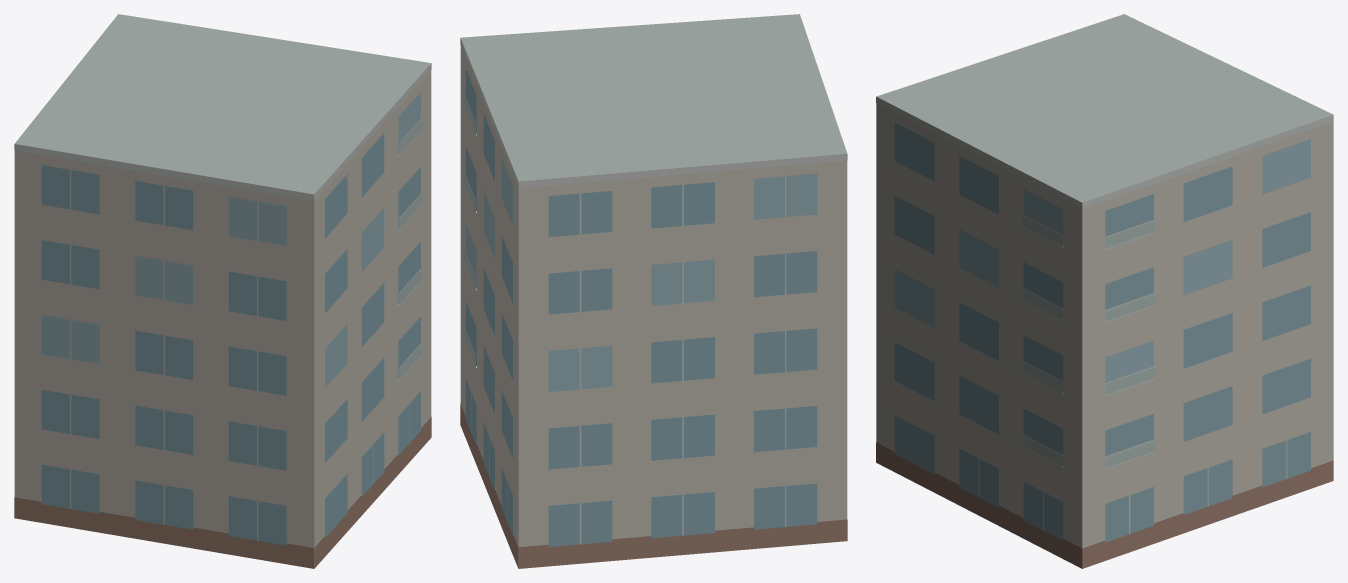
Rendered from survey-upis-33007920.glb.
3 renders of one model, left to right at view 1: azimuth 30°, elevation 25°; view 2: azimuth 150°, elevation 25°; view 3: azimuth 270°, elevation 25°, orthographic. The views are drawn at different scales.
Visible parts, largest first — view 1: survey-upis-33007920.tmp; view 2: survey-upis-33007920.tmp; view 3: survey-upis-33007920.tmp.
Boxes of the visible parts, x1,y1,x2,y2 form: survey-upis-33007920.tmp: (14, 14, 431, 568); survey-upis-33007920.tmp: (460, 14, 847, 568); survey-upis-33007920.tmp: (876, 14, 1333, 568).
Size of the model in its own units: 15.38 by 13.9 by 15.75.
